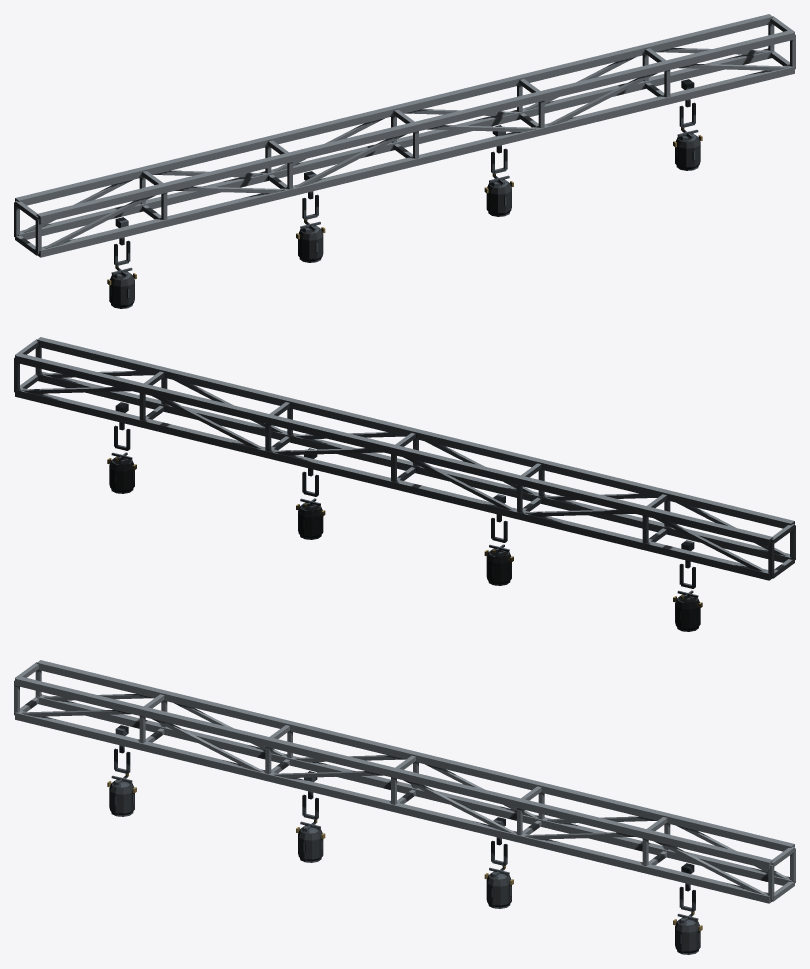
The model's file is 0-20261016-1900-ev033-r06-stage-lighttruss_baked.glb.
3 views of the same model, one above another, from view 1: azimuth 30°, elevation 25°; view 2: azimuth 150°, elevation 25°; view 3: azimuth 330°, elevation 25° (orthographic).
Parts seen in each view (by area): view 1: SW_Stage_LightTruss; view 2: SW_Stage_LightTruss; view 3: SW_Stage_LightTruss.
Part boxes in pixels (<box>): SW_Stage_LightTruss: <box>14,14,795,308</box>; SW_Stage_LightTruss: <box>14,337,795,631</box>; SW_Stage_LightTruss: <box>14,660,795,954</box>.
Bounding box in the file's own units: 6.03 × 0.914 × 0.352.
Materials: 1 (1 with a texture image).
